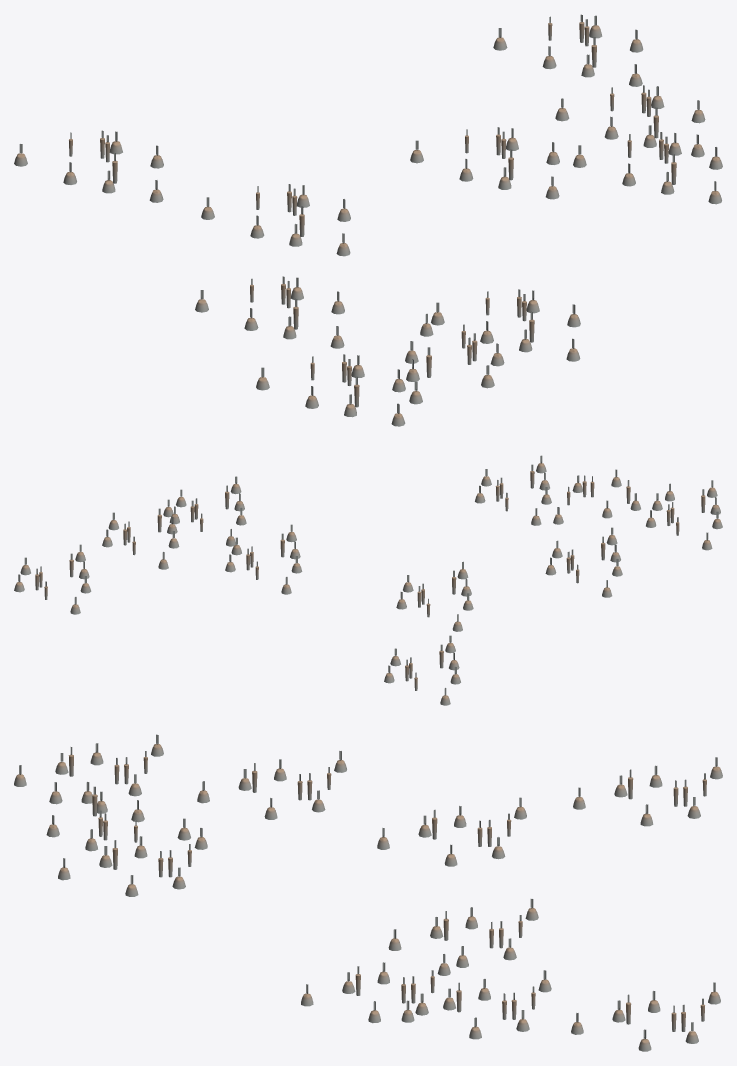
3 views of the same model, one above another, from view 1: azimuth 30°, elevation 25°; view 2: azimuth 150°, elevation 25°; view 3: azimuth 270°, elevation 25° (orthographic). The views are drawn at different scales.
Visible parts, largest first — view 1: G:\FFXIV-MapTools\exports\n4f5\bg\ex3\01_nvt_n4\fld\n4f5\bgp (×4); view 2: G:\FFXIV-MapTools\exports\n4f5\bg\ex3\01_nvt_n4\fld\n4f5\bgp (×4); view 3: G:\FFXIV-MapTools\exports\n4f5\bg\ex3\01_nvt_n4\fld\n4f5\bgp (×4).
Boxes of the visible parts, bbox=[...] form: G:\FFXIV-MapTools\exports\n4f5\bg\ex3\01_nvt_n4\fld\n4f5\bgp (×4): bbox=[14, 14, 722, 426]; G:\FFXIV-MapTools\exports\n4f5\bg\ex3\01_nvt_n4\fld\n4f5\bgp (×4): bbox=[14, 455, 722, 705]; G:\FFXIV-MapTools\exports\n4f5\bg\ex3\01_nvt_n4\fld\n4f5\bgp (×4): bbox=[14, 734, 722, 1051].
Size of the model in its own units: 12.46 by 0.5843 by 12.43.
